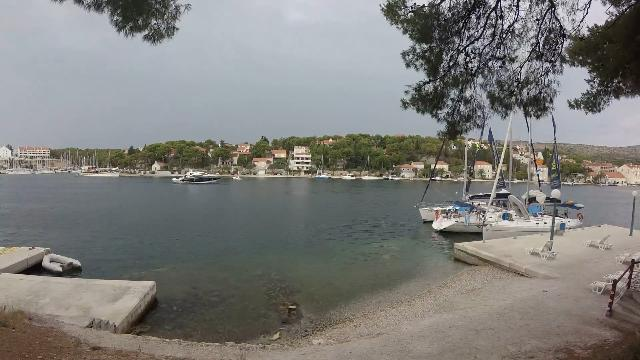speedboat: (166, 160, 224, 188)
